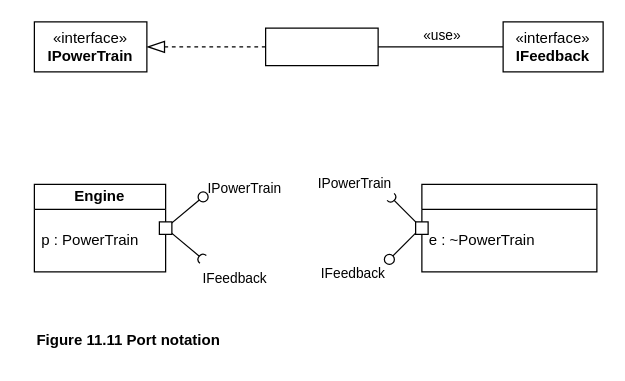
Image size: 625x381. Some labels were removed from this diagram. Each missing label, with the box of its shape:
PowerTrain: (264, 27, 378, 66)
Wheel: (421, 183, 597, 272)
